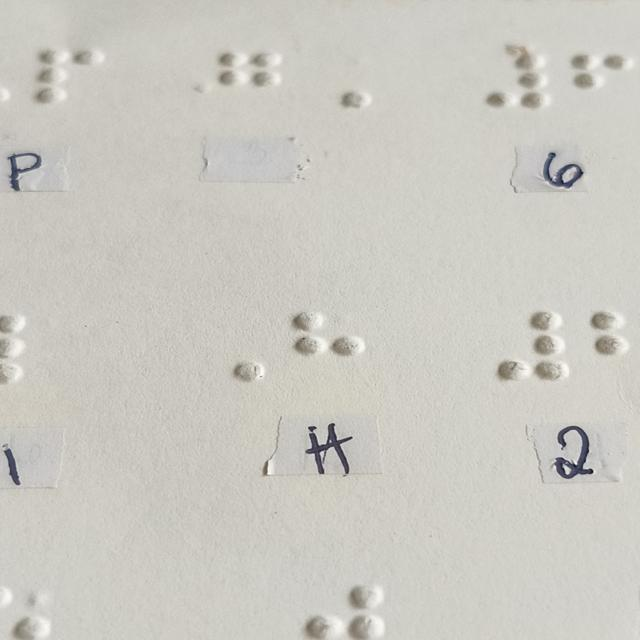6: (572, 55, 629, 111)
H: (295, 312, 361, 383)
capital: (200, 312, 266, 383)
g: (217, 51, 280, 105)
number: (499, 312, 565, 383), (488, 54, 545, 110)
p: (40, 49, 103, 102)
